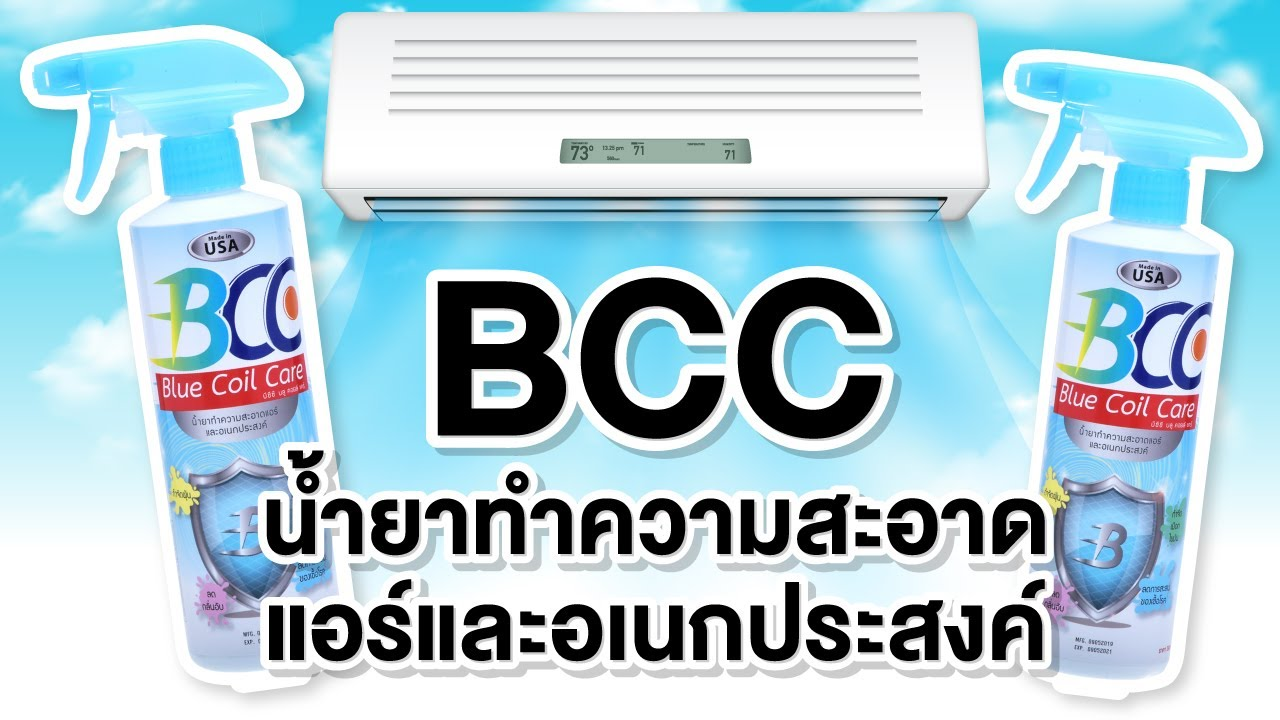Cleaning_solution: (20, 18, 359, 689), (998, 36, 1267, 710)
